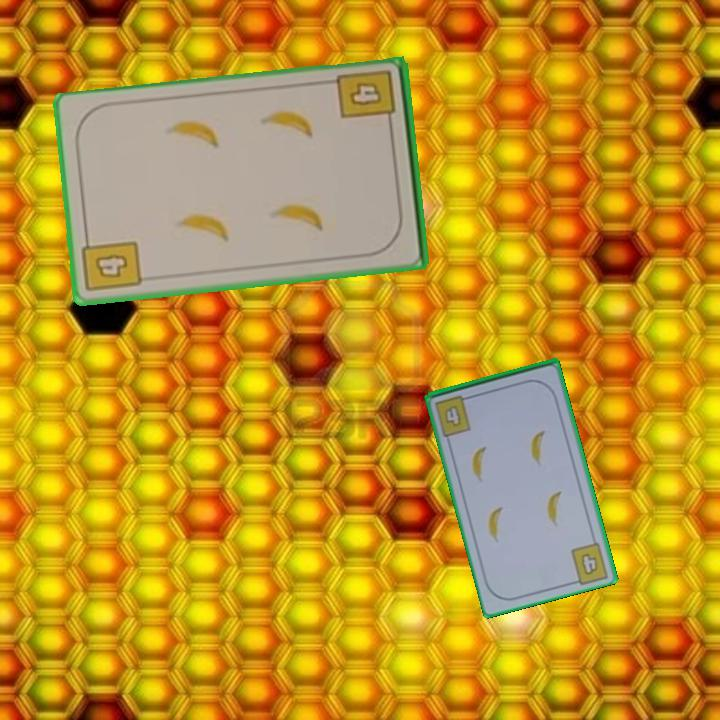4b: (334, 66, 399, 131), (79, 231, 144, 295), (431, 391, 475, 439), (578, 550, 601, 579)
